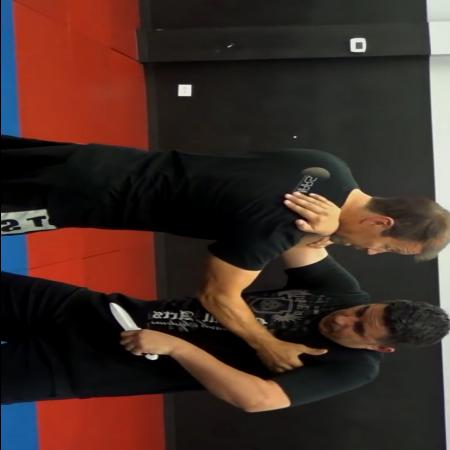long weapon: (103, 300, 163, 363)
